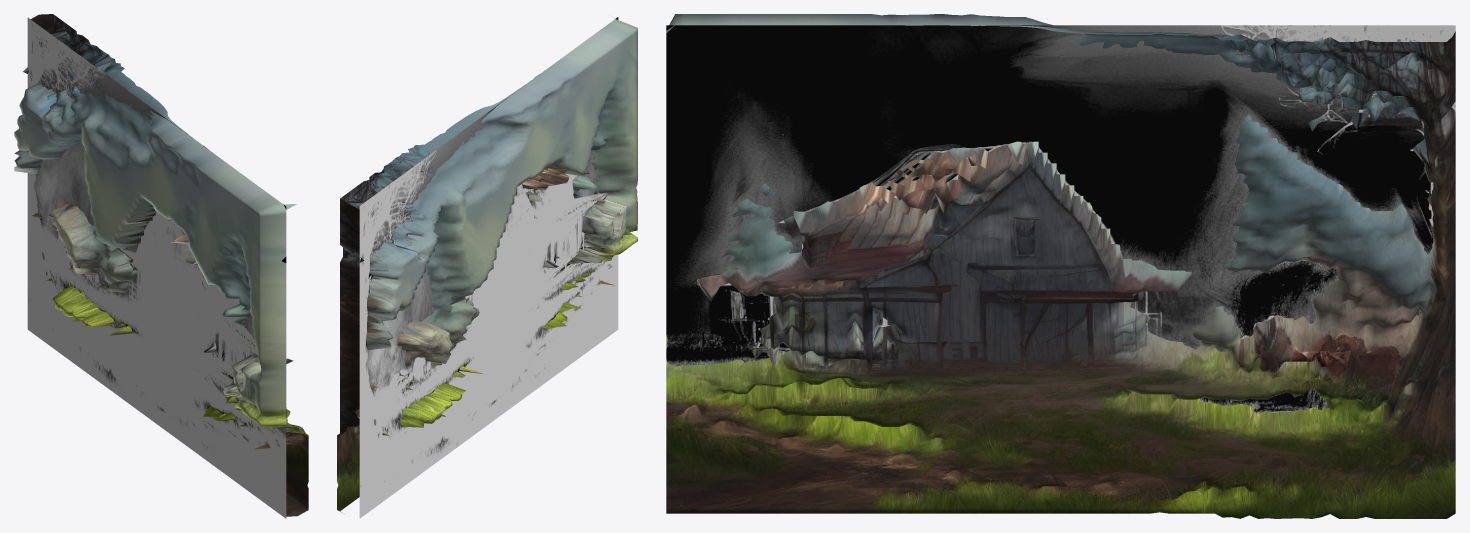
The model's file is BuildingDisplacementMap.fbx.
3 views of the same model, side by side, from view 1: azimuth 30°, elevation 25°; view 2: azimuth 150°, elevation 25°; view 3: azimuth 270°, elevation 25° (orthographic). The views are drawn at different scales.
Parts seen in each view (by area): view 1: building, displacement_map; view 2: building, displacement_map; view 3: building, displacement_map.
Boxes of the visible parts, x1,y1,x2,y2 form: building: (14, 14, 308, 516); displacement_map: (27, 17, 286, 518); building: (337, 15, 637, 512); displacement_map: (359, 17, 618, 518); building: (666, 14, 1455, 518); displacement_map: (666, 25, 1455, 417).
Size of the model in its own units: 15 by 100 by 150.
Materials: 2 (2 with a texture image).
